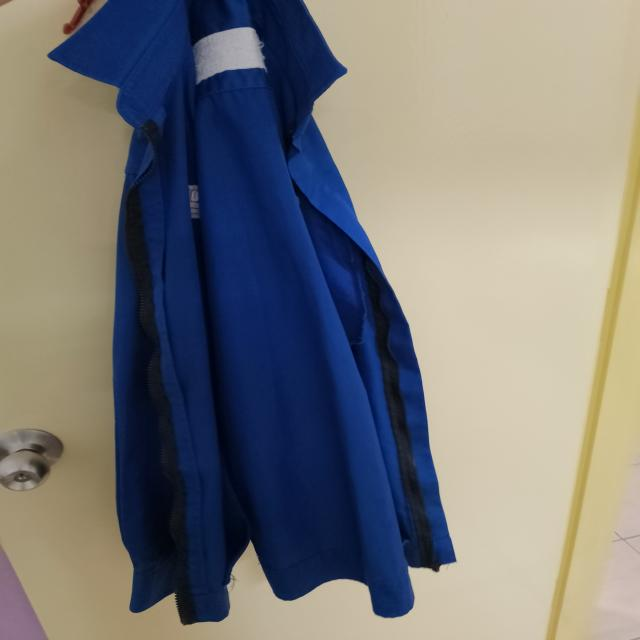person_without_labcoat: (48, 0, 455, 625)
